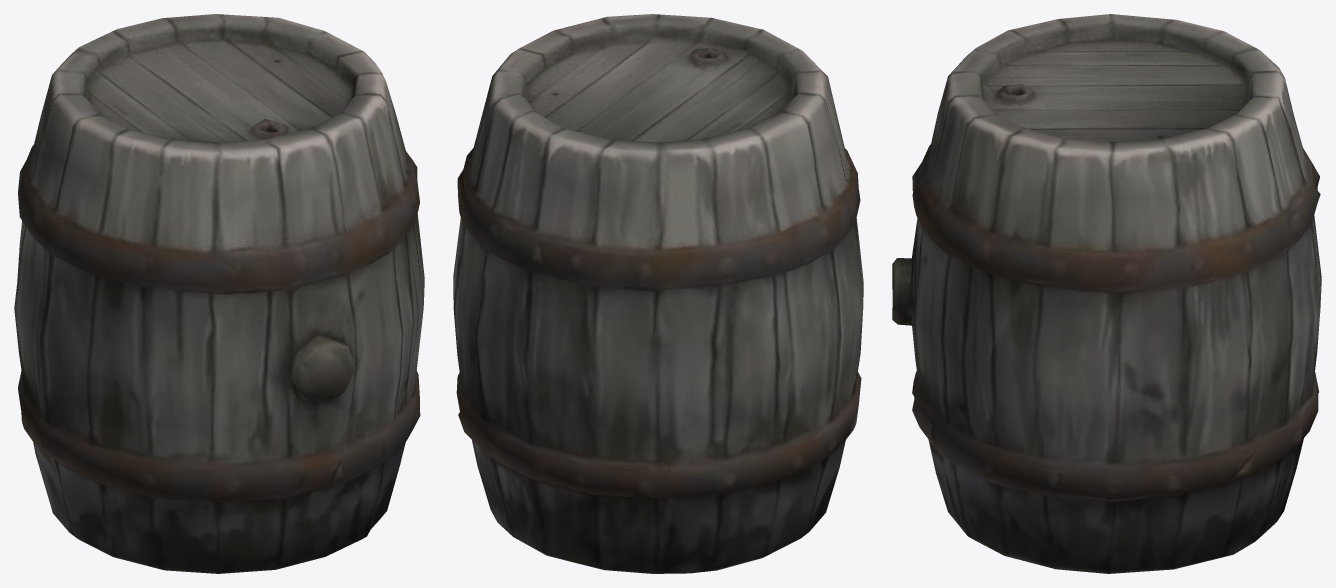
Rendered from barrel.glb.
3 views of the same model, side by side, from view 1: azimuth 30°, elevation 25°; view 2: azimuth 150°, elevation 25°; view 3: azimuth 270°, elevation 25° (orthographic).
Visible parts, largest first — view 1: barrel; view 2: barrel; view 3: barrel.
Boxes of the visible parts, x1=… form: barrel: x1=14, y1=14, x2=424, y2=573; barrel: x1=453, y1=14, x2=863, y2=573; barrel: x1=892, y1=14, x2=1321, y2=573.
Bounding box in the file's own units: 0.7706 × 0.8645 × 0.7971.
1 material, 1 textured.
